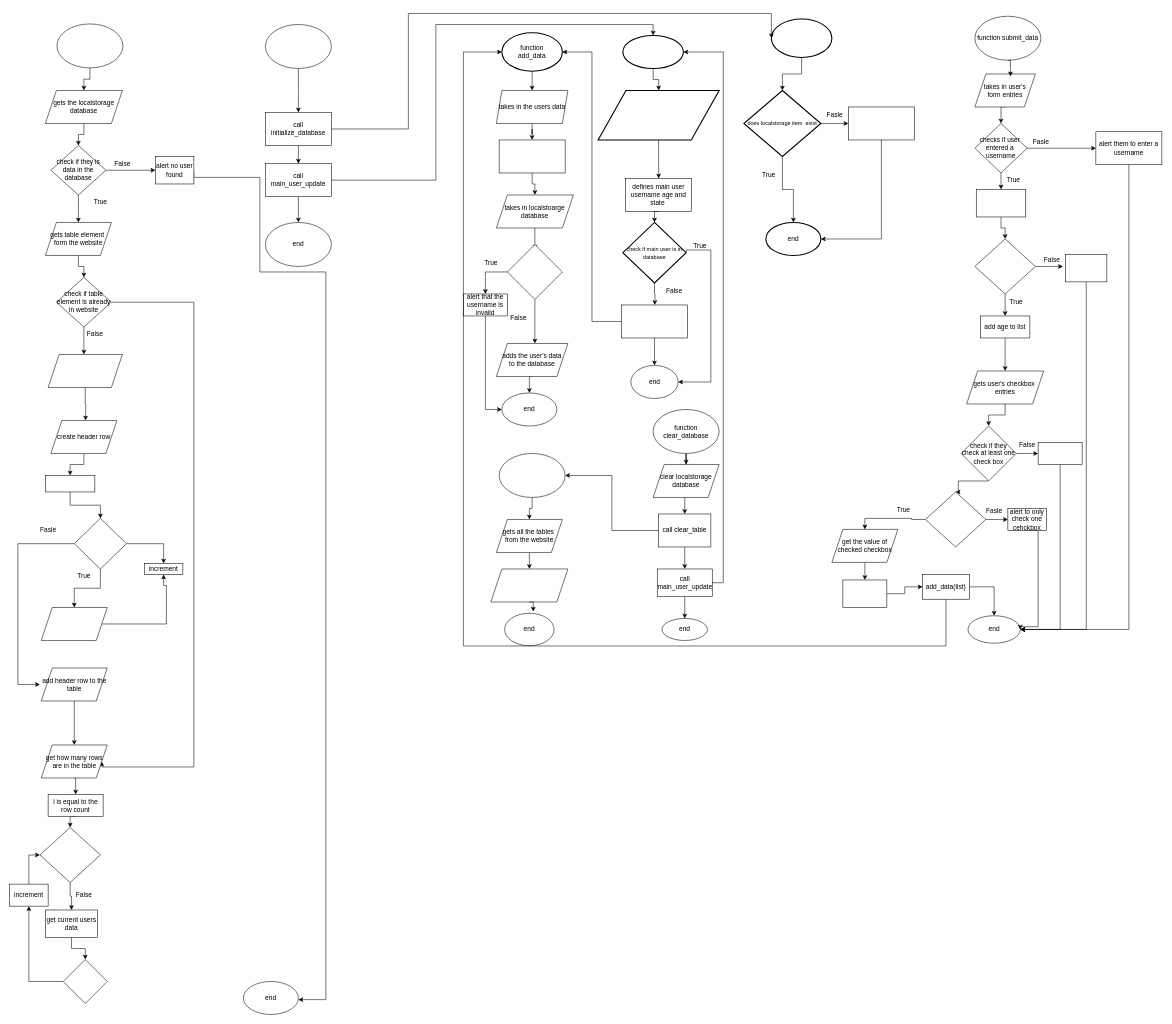
This 1172x1024 diagram has some shape labels left out. Each missing label, with the box of its shape:
add name to header row: (41, 607, 107, 640)
add value to list: (842, 579, 887, 607)
add_data(main_user): (621, 304, 688, 338)
adds username to list: (976, 189, 1026, 217)
alert to enter a least one checkbox: (1038, 442, 1082, 464)
alert to enter a valid age: (1065, 254, 1107, 282)
check if only one checkbox was checked: (925, 491, 986, 547)
check if user entered a age or if the age is in a valid range: (974, 238, 1035, 294)
checks if data is valid: (63, 959, 107, 1003)
checks if user in already in the database: (507, 244, 562, 299)
create localstorage item with empty list: (848, 106, 914, 140)
create table element: (48, 354, 122, 387)
define name for headers: (45, 475, 95, 492)
for i < length of header name: (74, 518, 127, 569)
format user's data: (499, 139, 565, 173)
function clear_table: (499, 453, 565, 497)
function initialize_database: (771, 18, 832, 58)
function main_user_update: (622, 35, 684, 69)
function table: (56, 23, 123, 68)
removes all table with remove fucntion: (490, 568, 568, 602)
start: (265, 24, 331, 68)
takes in the local storage item that store and json parses it: (597, 90, 719, 140)
while i < the amount of user: (39, 827, 100, 882)
